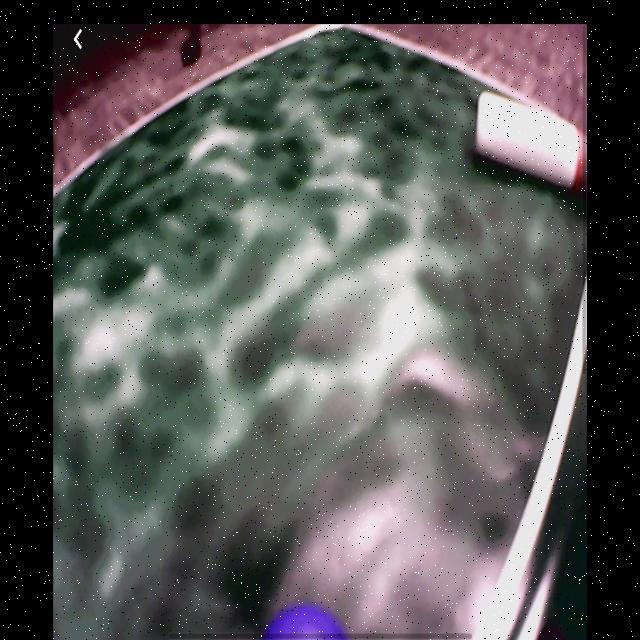ball: (264, 605, 351, 637)
